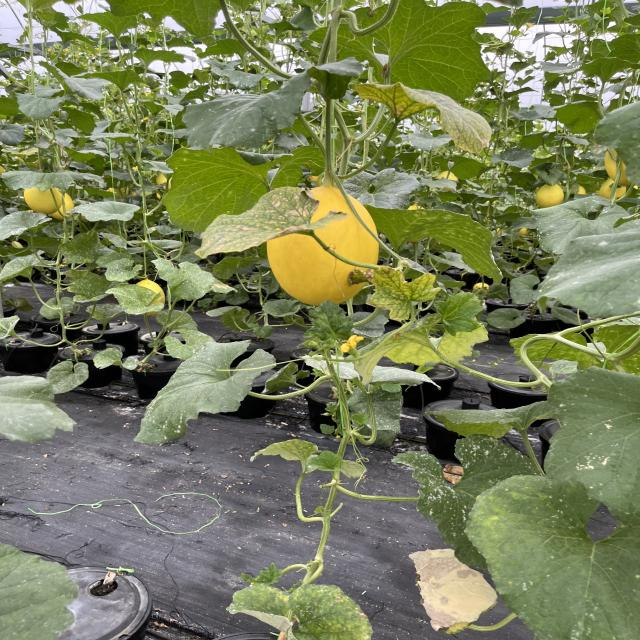CMV: (226, 576, 373, 640)
alternaria leaf blight: (359, 76, 500, 161)
downy mildew: (185, 182, 342, 260), (356, 266, 438, 324)
